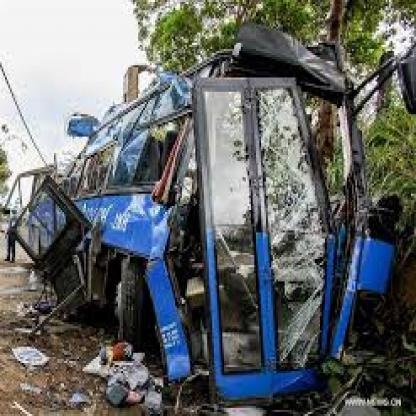accident: (23, 29, 392, 397)
